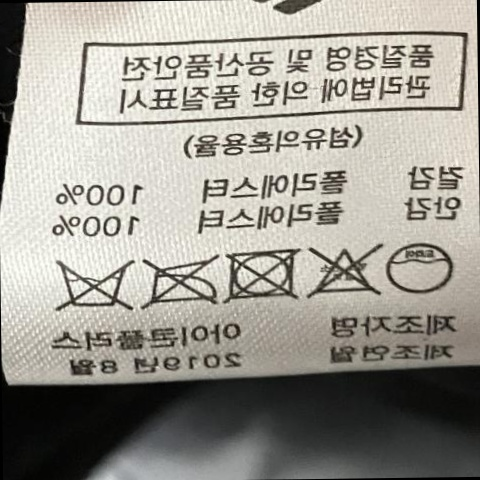DN_bleach: (310, 244, 375, 302)
DN_iron: (142, 255, 221, 309)
DN_tumble_dry: (225, 245, 298, 303)
DN_wash: (51, 253, 134, 314)
dry_clean: (386, 240, 454, 300)
